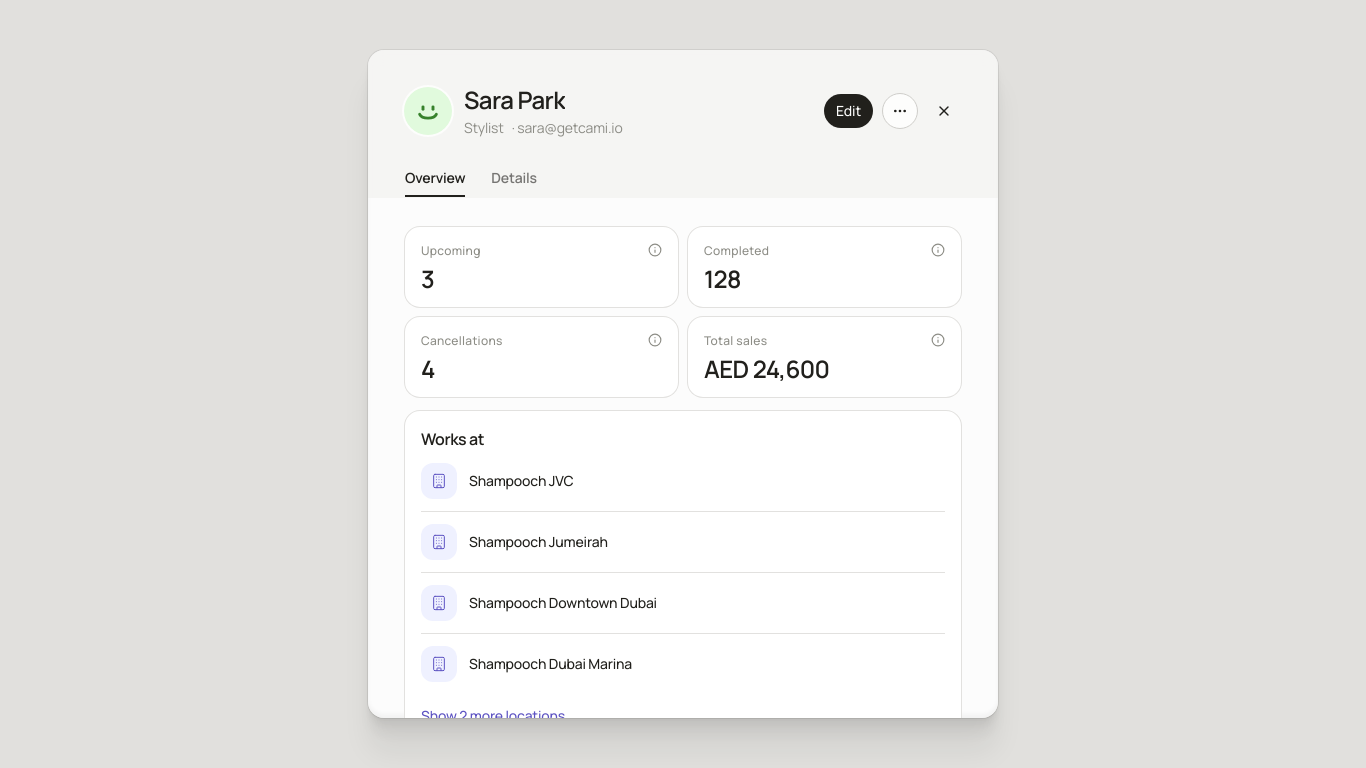
Test: the Works at card › caps a long named set, so an area manager's card is not a wall either
Expected: the text "Shampooch Al Reem" is not shown
Click the button "Show 2 more locations" at (493, 716), box [421, 706, 565, 726]
(page scrolled)
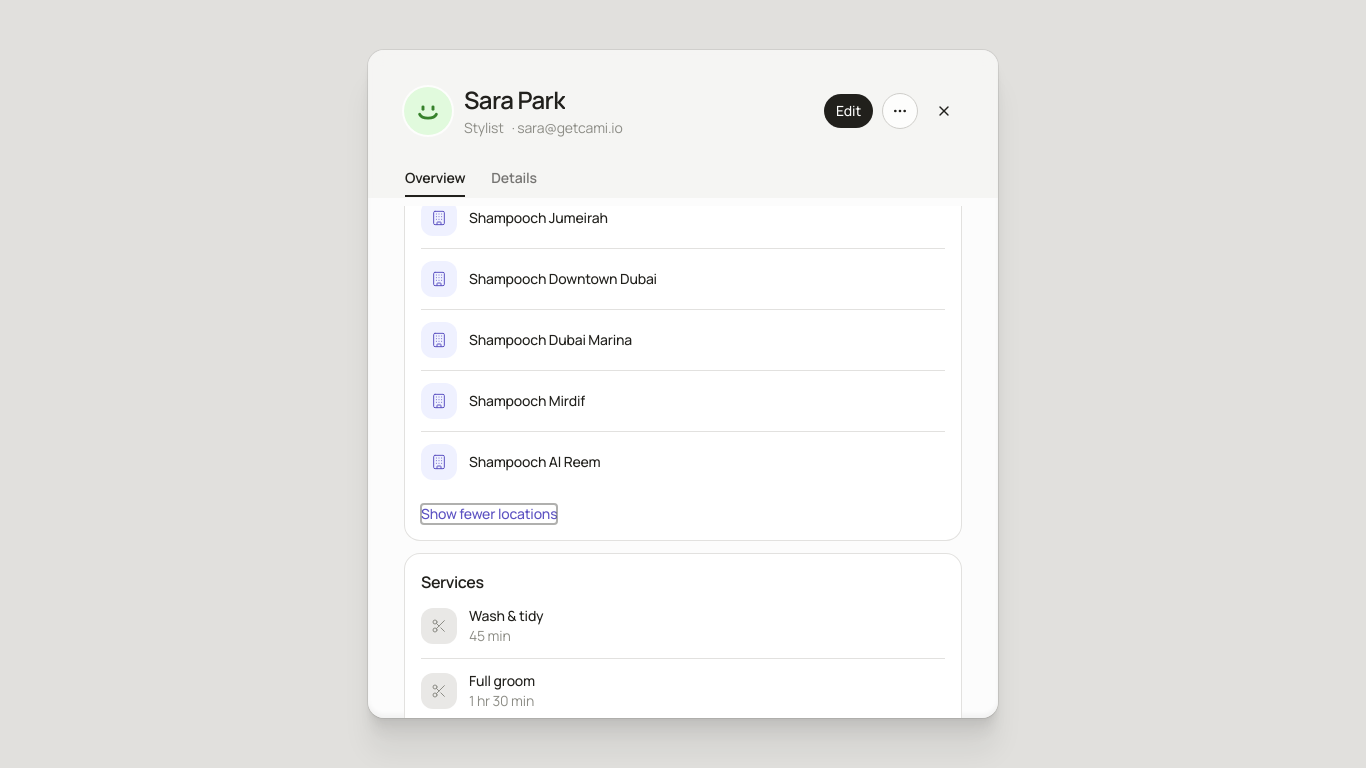
Expected: the text "Shampooch Al Reem" is shown, [469, 452, 600, 472]
